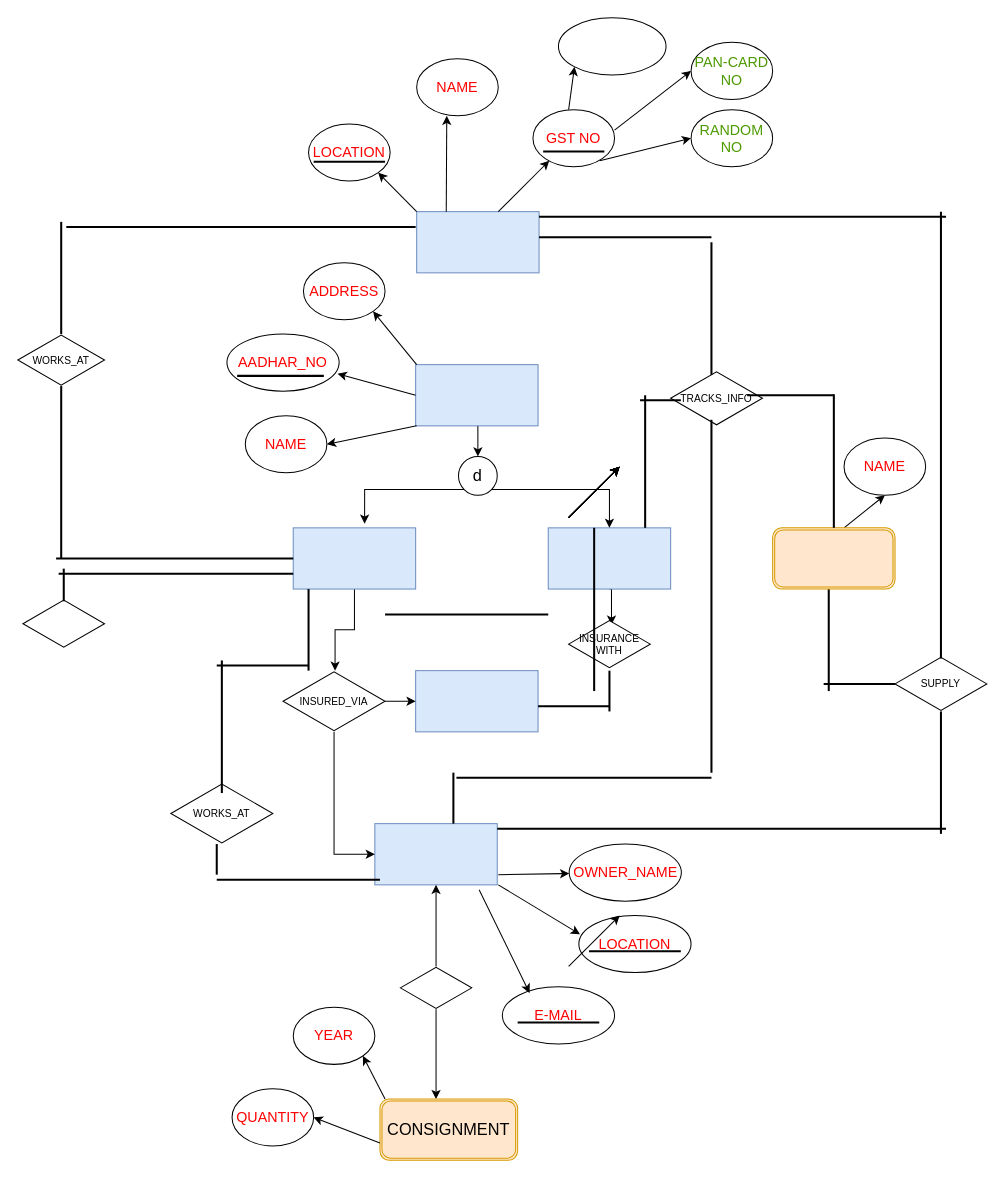
The diagram is 1005 pixels wide and 1178 high, and some of its shapes have lost their labels. The shapes that lost their labels are listed below. From the top down, each one's centre as x and y in pixels, then its label:
At pixel 611 46: "STATE_CODE".
At pixel 477 242: "SHOP".
At pixel 476 395: "PERSON".
At pixel 354 558: "EMPLOYEE".
At pixel 609 558: "COSTUMER".
At pixel 833 558: "COMMODITY".
At pixel 476 701: "INSURANCE COMPANY".
At pixel 435 854: "FACTORY".
At pixel 435 987: "WORKING ON".
